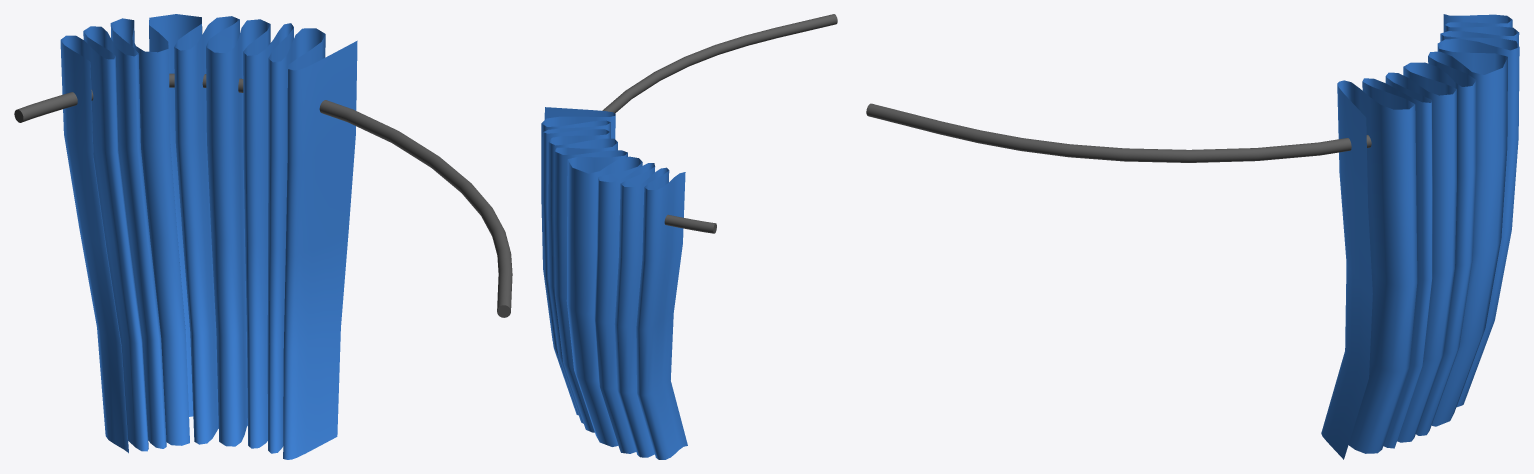
The model's file is Duschvorhang.FBX.
3 renders of one model, left to right at view 1: azimuth 30°, elevation 25°; view 2: azimuth 150°, elevation 25°; view 3: azimuth 270°, elevation 25°, orthographic. The views are drawn at different scales.
Visible parts, largest first — view 1: Line001, Circle001; view 2: Line001, Circle001; view 3: Line001, Circle001.
Boxes of the visible parts, box(x1,y1,x2,y2) form: Line001: box(60, 14, 357, 459); Circle001: box(14, 73, 512, 317); Line001: box(541, 107, 687, 459); Circle001: box(602, 14, 837, 233); Line001: box(1321, 14, 1519, 459); Circle001: box(866, 103, 1371, 162).
Bounding box in the file's own units: 140 × 180 × 298.
